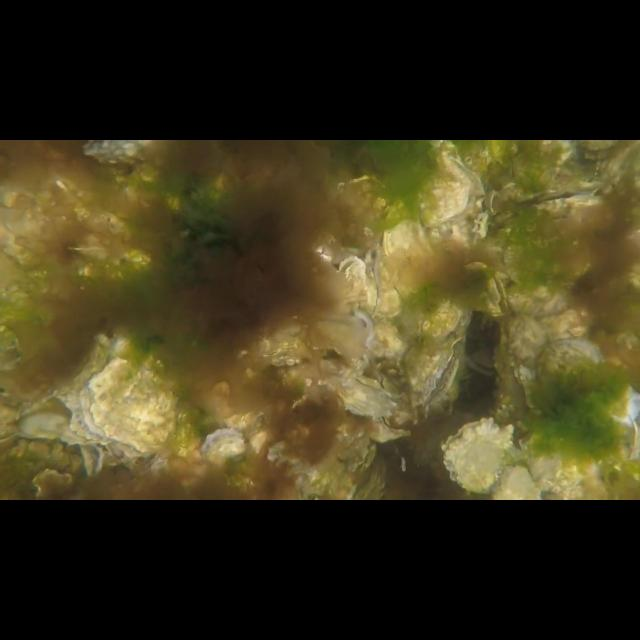Oyster-Closed: (518, 428, 600, 492), (322, 367, 398, 419), (407, 336, 463, 406), (366, 413, 412, 442), (364, 245, 382, 318)
Oyster-Indeterminate: (78, 354, 175, 456), (535, 336, 640, 428), (442, 416, 516, 494), (382, 200, 434, 298), (416, 140, 472, 226), (506, 315, 550, 413), (239, 322, 317, 366), (506, 282, 574, 316), (426, 296, 472, 344), (376, 248, 404, 318), (201, 426, 245, 460)
Oyster-Open: (516, 180, 604, 218), (337, 254, 367, 298), (486, 272, 510, 318)
